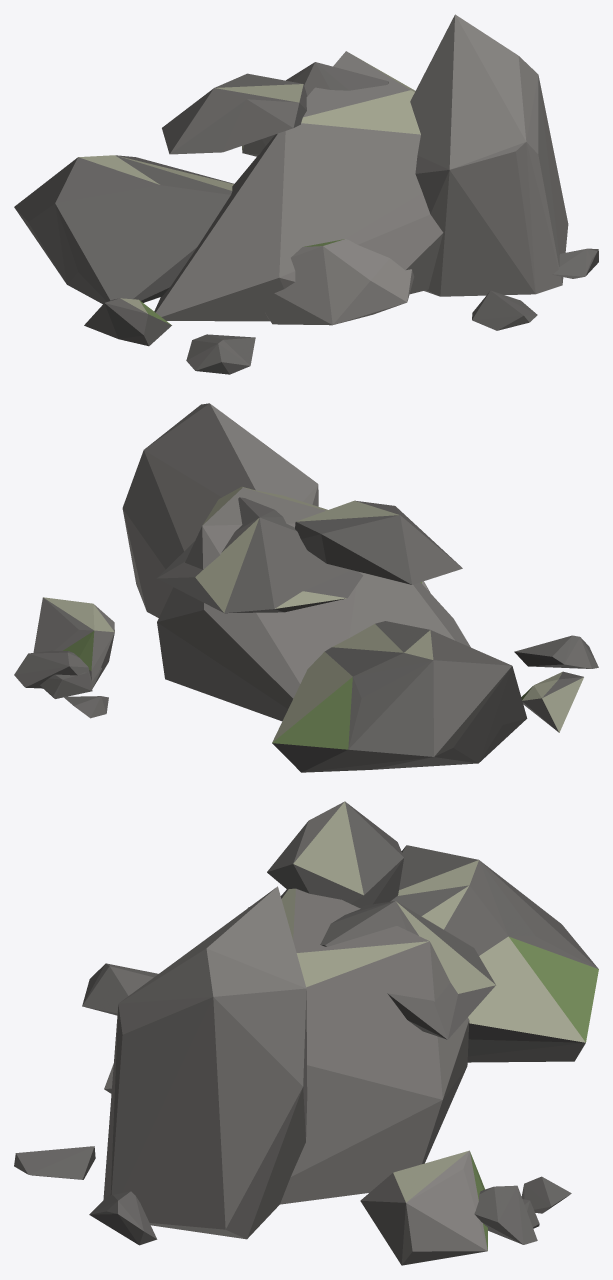
Rendered from boulder_large.glb.
3 views of the same model, one above another, from view 1: azimuth 30°, elevation 25°; view 2: azimuth 150°, elevation 25°; view 3: azimuth 270°, elevation 25° (orthographic). The views are drawn at different scales.
Visible parts, largest first — view 1: Body; view 2: Body; view 3: Body.
Boxes of the visible parts, x1,y1,x2,y2 form: Body: (14,14,598,374); Body: (14,403,598,772); Body: (14,801,598,1265).
Size of the model in its own units: 3.42 by 1.59 by 2.75.
